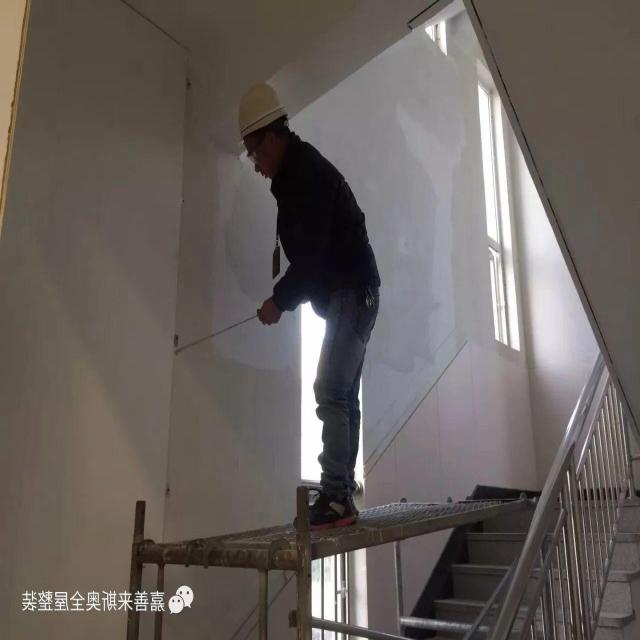face_nomask: (249, 127, 285, 191)
hand_noglove: (255, 287, 283, 336)
head_helmet: (233, 76, 289, 139)
person: (240, 72, 384, 521)
shoes: (290, 488, 364, 535)
